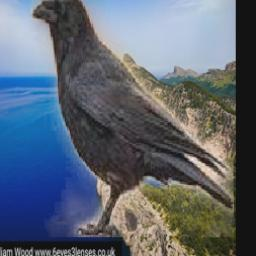Crow: (31, 0, 235, 237)
